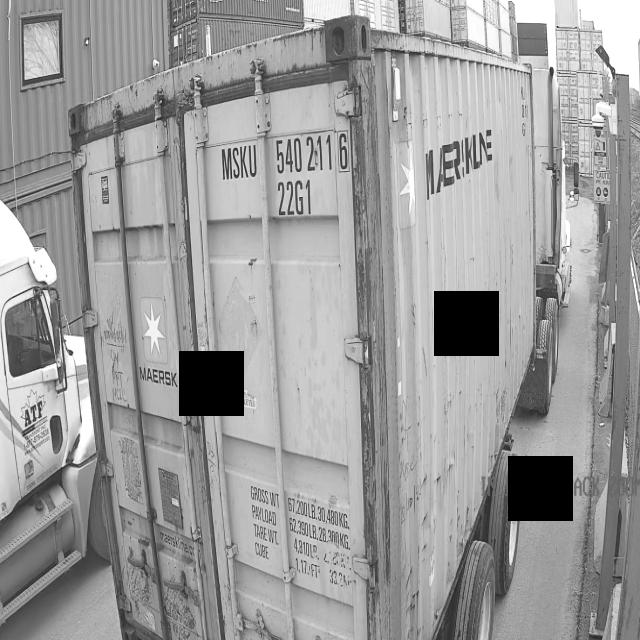container_company_logo: (419, 112, 500, 210), (133, 290, 180, 392)
container_number: (216, 134, 353, 220)
driver: (68, 16, 571, 640)
other_container_info: (245, 460, 361, 596)
truck_cabin: (0, 200, 108, 624)
truck_company: (18, 396, 60, 464)
truck_with_container: (68, 16, 570, 640)
